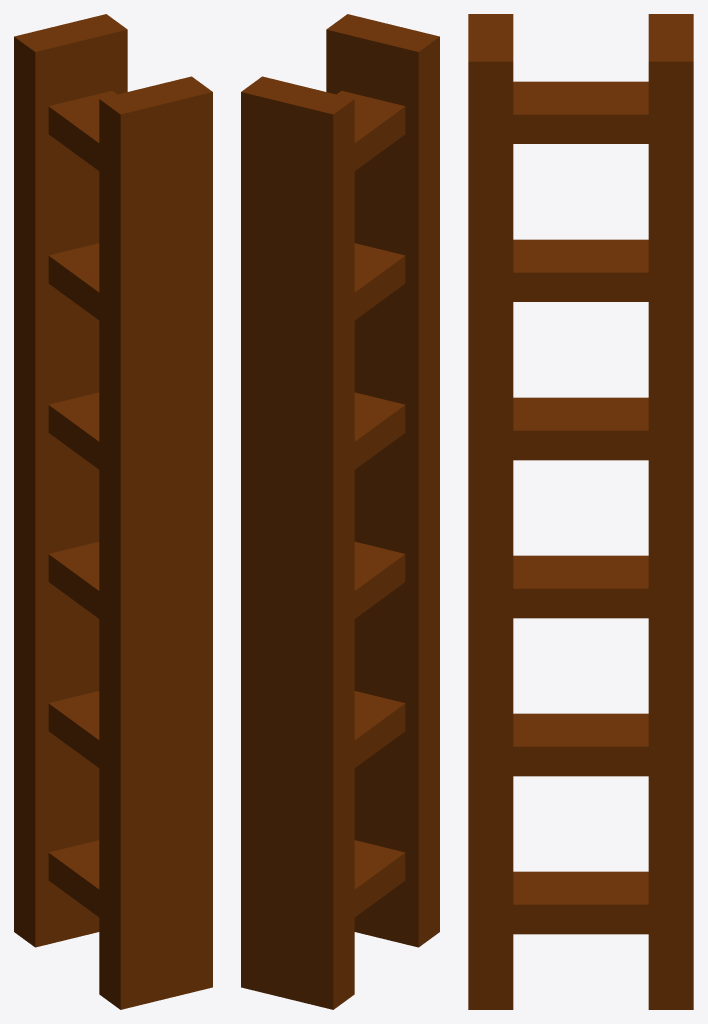
Rendered from Ladder.fbx.
3 views of the same model, side by side, from view 1: azimuth 30°, elevation 25°; view 2: azimuth 150°, elevation 25°; view 3: azimuth 270°, elevation 25° (orthographic). The views are drawn at different scales.
Visible parts, largest first — view 1: ladder; view 2: ladder; view 3: ladder.
Part boxes in pixels (bbox=[...]): ladder: bbox=[14, 14, 212, 1009]; ladder: bbox=[241, 14, 439, 1009]; ladder: bbox=[468, 14, 693, 1009].
Bounding box in the file's own units: 10.69 × 21.34 × 98.97.
